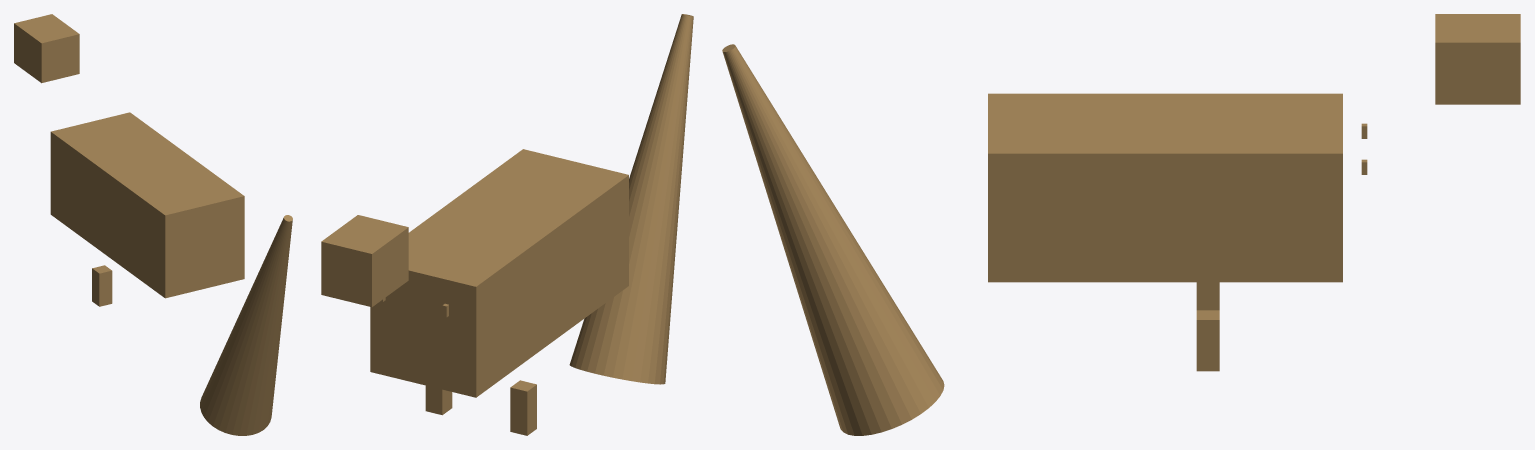
Rendered from carnotaurus_model.fbx.
3 renders of one model, left to right at view 1: azimuth 30°, elevation 25°; view 2: azimuth 150°, elevation 25°; view 3: azimuth 270°, elevation 25°, orthographic. The views are drawn at different scales.
Parts seen in each view (by area): view 1: Body; view 2: Body; view 3: Body.
Part boxes in pixels (box(x1,y1,x2,y2)): Body: box(14, 14, 292, 435); Body: box(321, 14, 693, 435); Body: box(722, 14, 1520, 435).
Size of the model in its own units: 100 by 308 by 562.
